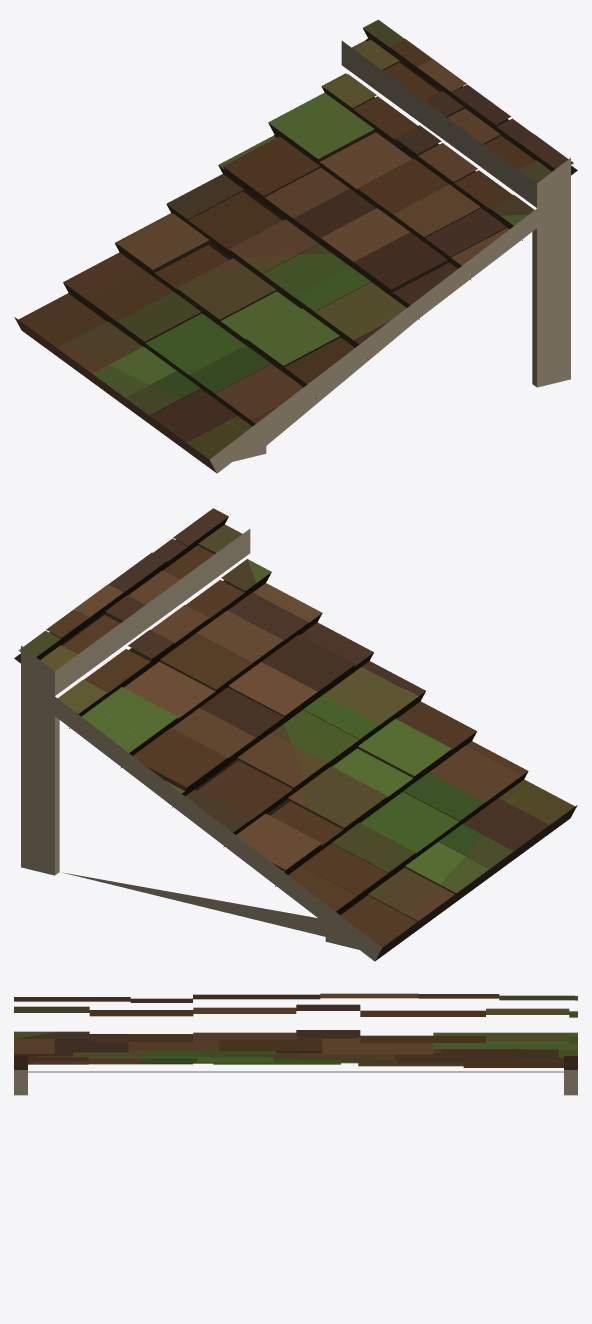
Rendered from roof-mossy.glb.
The picture shows the model from 3 angles, top to bottom: view 1: azimuth 30°, elevation 25°; view 2: azimuth 150°, elevation 25°; view 3: azimuth 270°, elevation 25°; orthographic projection. The views are drawn at different scales.
Parts seen in each view (by area): view 1: roof-mossy; view 2: roof-mossy; view 3: roof-mossy.
Part boxes in pixels (box(x1,y1,x2,y2)): roof-mossy: box(14, 19, 577, 473); roof-mossy: box(14, 508, 577, 961); roof-mossy: box(14, 993, 577, 1095).
Size of the model in its own units: 1.09 by 0.6483 by 1.
